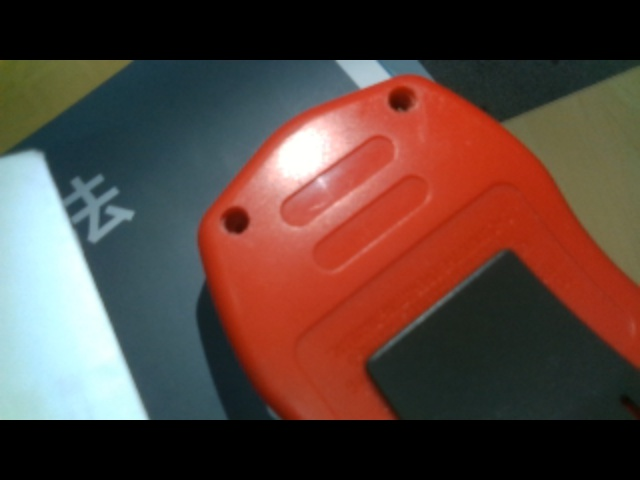Screw holes: (219, 205, 252, 236), (389, 84, 419, 116)
